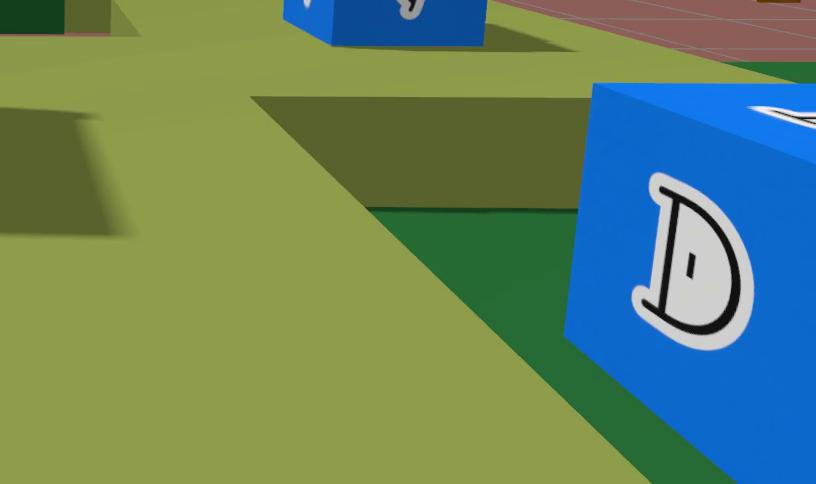KFS_REAL: (564, 84, 815, 483), (632, 173, 753, 350), (284, 0, 487, 46), (394, 0, 425, 18), (303, 0, 310, 6)
